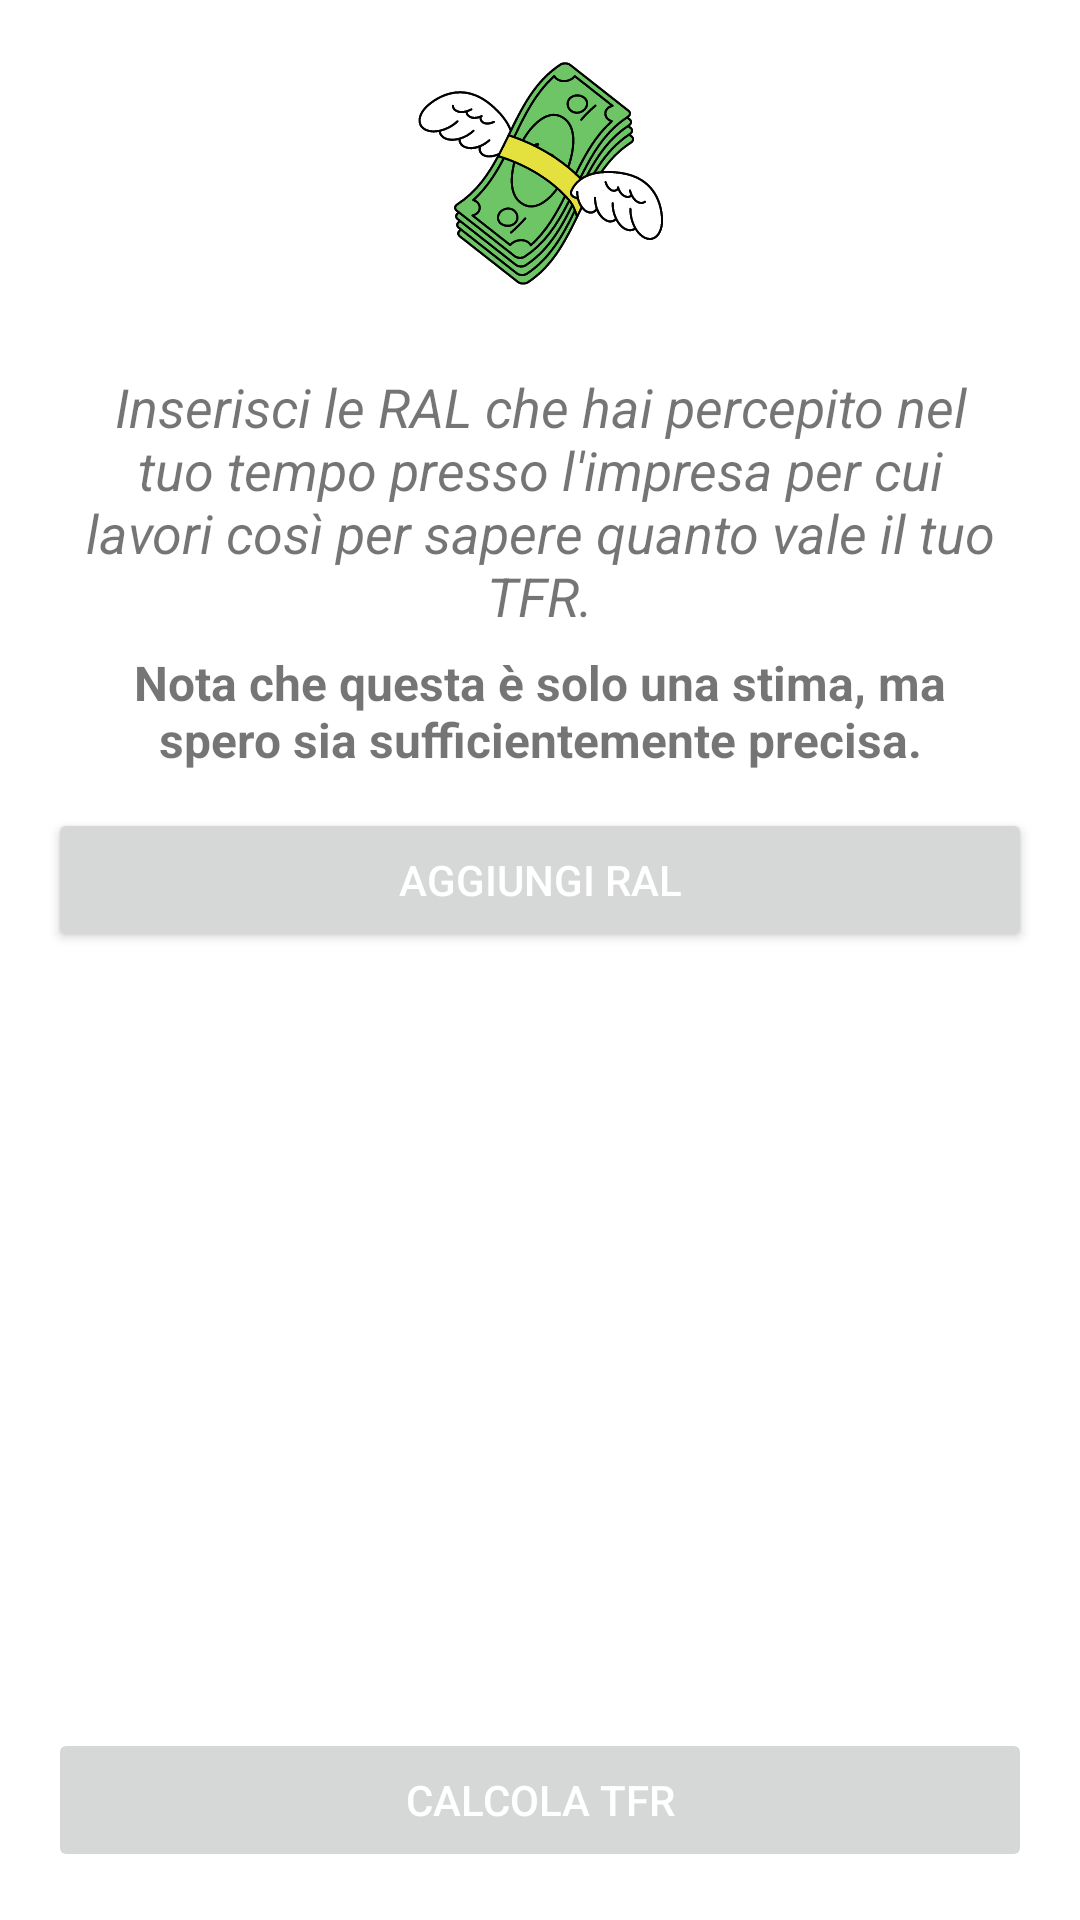

Named icons in this screenshot (1080 × 1920) and their bounding boxes, region(x1, y1, x2, y2):
page tfr: region(418, 62, 663, 285)
